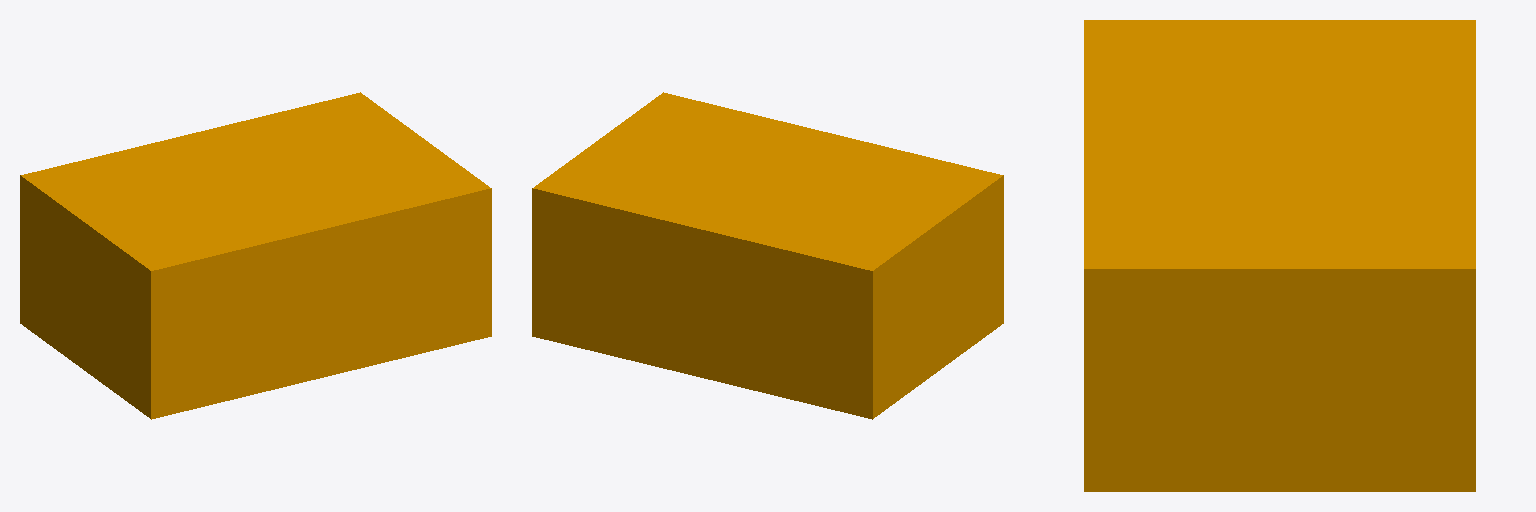
The robot description file, URDF, robot "model.urdf":
<?xml version="1.0" ?>
        <robot name="model.urdf">
        <link name="baseLink">
            <contact>
                <lateral_friction value="0.8"/>
                <rolling_friction value="0.001"/>
                <contact_cfm value="0.0"/>
                <contact_erp value="1.0"/>
            </contact>
            <inertial>
                <mass value="0.229"/>
                <inertia ixx="0.001" ixy="0" ixz="0" iyy="0.001" iyz="0" izz="0.001"/>
            </inertial>
            <visual>
            <geometry>
                <mesh filename="cuboid.obj" scale="1 1 1"/>
            </geometry>
            <!-- The following material makes the object white in Isaac Gym, so we comment it out.
            <material name="white"> <color rgba="1. 1. 1. 1."/> </material>
            -->
            </visual>
            <collision>
            <geometry>
                <mesh filename="cuboid.obj" scale="1 1 1"/>
            </geometry>
            </collision>
        </link>
        </robot>

--- Render facts (derived) ---
Views: 3 orthographic renders of the robot side by side, from view 1: azimuth 30°, elevation 25°; view 2: azimuth 150°, elevation 25°; view 3: azimuth 270°, elevation 25°.
Robot: model.urdf — 1 links, 0 joints (none); root link baseLink; default pose: all joints at 0.
Visible links, largest first — view 1: baseLink; view 2: baseLink; view 3: baseLink.
Link boxes in pixels (bbox=[...]): baseLink: bbox=[20, 92, 491, 419]; baseLink: bbox=[532, 92, 1003, 419]; baseLink: bbox=[1084, 20, 1475, 491].
Size in the robot's own frame: 0.15 by 0.1 by 0.0625 metres.
Meshes: 1 distinct files referenced, 1 mesh visuals loaded (1 OBJ).
